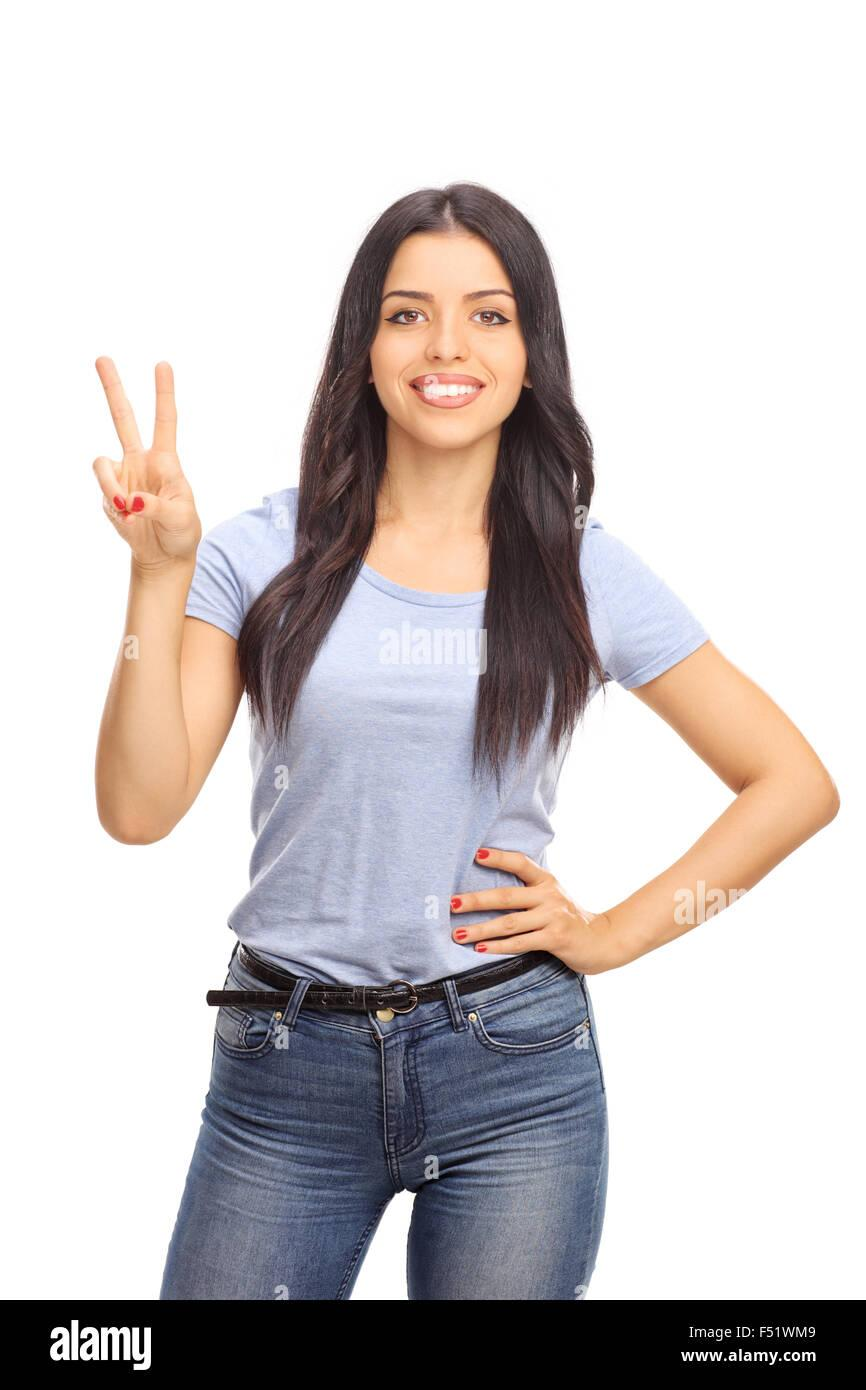peace_sign: (71, 338, 216, 568)
